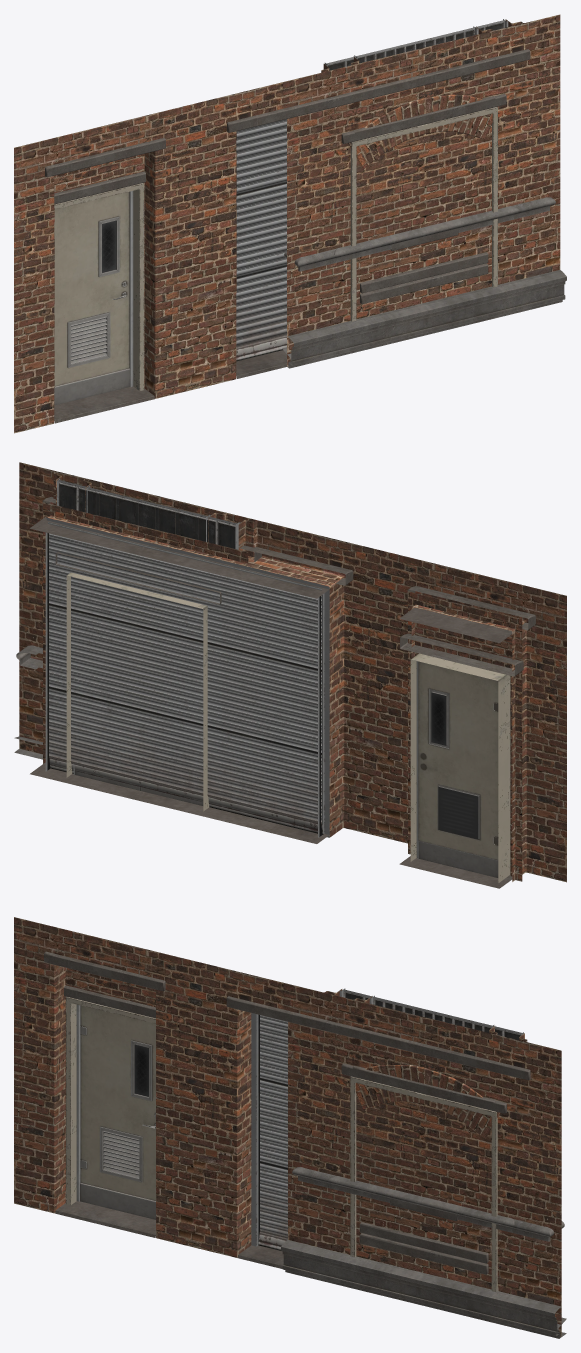
File: kit_factory.glb
The picture shows the model from 3 angles, top to bottom: view 1: azimuth 30°, elevation 25°; view 2: azimuth 150°, elevation 25°; view 3: azimuth 330°, elevation 25°; orthographic projection.
Parts seen in each view (by area): view 1: wall_window_centered_medium_02, wall_door_garage_door_01, door_garage_door_01, wall_standard_standard_01, crown_standard_standard_01, door_centered_large_01, window_tall_small_01, window_tall_large_01, window_centered_medium_02, window_centered_medium_01, window_centered_small_02, window_centered_small_01; view 2: door_garage_door_01, wall_door_garage_door_01, wall_window_tall_small_02, wall_window_tall_large_01, window_tall_large_01, door_recessed_large_01, wall_door_recessed_large_01, wall_window_tall_small_01, wall_window_tall_large_02, wall_window_centered_medium_01; view 3: wall_door_garage_door_01, wall_window_centered_medium_02, door_garage_door_01, wall_standard_standard_01, crown_standard_standard_01, door_centered_large_01, window_tall_small_01, window_tall_large_01, window_centered_medium_02, window_centered_small_02, window_centered_medium_01, window_centered_small_01.
Boxes of the visible parts, x1,y1,x2,y2 form: wall_window_centered_medium_02: (287,14,560,366); wall_door_garage_door_01: (14,81,286,433); door_garage_door_01: (45,49,530,423); wall_standard_standard_01: (361,131,485,282); crown_standard_standard_01: (287,270,566,368); door_centered_large_01: (341,94,506,321); window_tall_small_01: (334,26,519,262); window_tall_large_01: (284,20,555,271); window_centered_medium_02: (360,263,488,304); window_centered_medium_01: (353,96,495,293); window_centered_small_02: (384,104,465,251); window_centered_small_01: (391,105,462,286); door_garage_door_01: (34,497,535,888); wall_door_garage_door_01: (238,529,566,882); wall_window_tall_small_02: (19,462,292,753); wall_window_tall_large_01: (19,462,292,754); window_tall_large_01: (16,482,239,669); door_recessed_large_01: (30,500,261,811); wall_door_recessed_large_01: (43,502,248,763); wall_window_tall_small_01: (19,463,276,753); wall_window_tall_large_02: (19,462,290,753); wall_window_centered_medium_01: (85,478,226,514); wall_door_garage_door_01: (14,917,287,1257); wall_window_centered_medium_02: (288,984,561,1336); door_garage_door_01: (44,951,530,1268); wall_standard_standard_01: (362,1101,486,1252); crown_standard_standard_01: (281,1240,560,1338); door_centered_large_01: (341,1063,506,1291); window_tall_small_01: (329,1000,514,1232); window_tall_large_01: (292,989,564,1241); window_centered_medium_02: (359,1233,488,1274); window_centered_small_02: (382,1073,463,1221); window_centered_medium_01: (352,1065,495,1263); window_centered_small_01: (390,1093,461,1256).
Size of the model in its own units: 6 by 3 by 0.63.
Materials: 6 (6 with a texture image).
